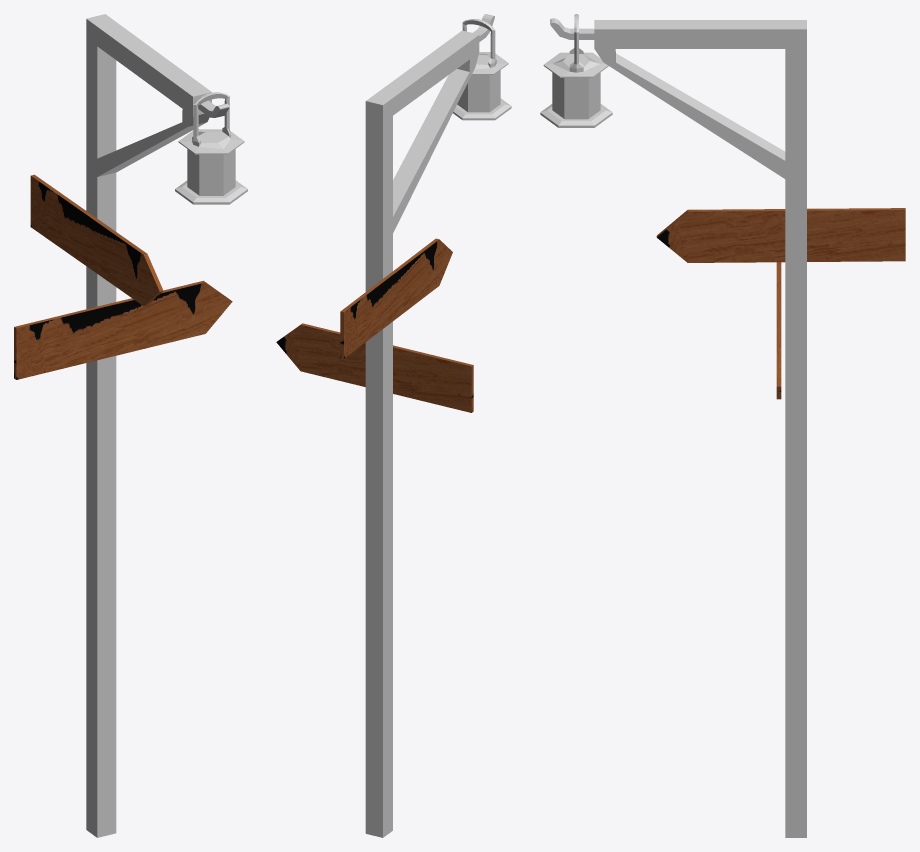
Rendered from Farol.fbx.
The picture shows the model from 3 angles, left to right: view 1: azimuth 30°, elevation 25°; view 2: azimuth 150°, elevation 25°; view 3: azimuth 270°, elevation 25°; orthographic projection. The views are drawn at different scales.
Visible parts, largest first — view 1: Poste, Felcha2, Farol; view 2: Poste, Felcha2, Farol; view 3: Poste, Felcha2, Farol.
Part boxes in pixels (x1=…): Poste: x1=86, y1=14, x2=229, y2=837; Felcha2: x1=14, y1=174, x2=232, y2=379; Farol: x1=175, y1=92, x2=247, y2=204; Poste: x1=365, y1=14, x2=494, y2=837; Felcha2: x1=276, y1=238, x2=473, y2=412; Farol: x1=453, y1=19, x2=511, y2=120; Poste: x1=550, y1=18, x2=806, y2=837; Felcha2: x1=656, y1=208, x2=905, y2=399; Farol: x1=540, y1=14, x2=612, y2=127.
Size of the model in its own units: 228 by 826 by 335.
